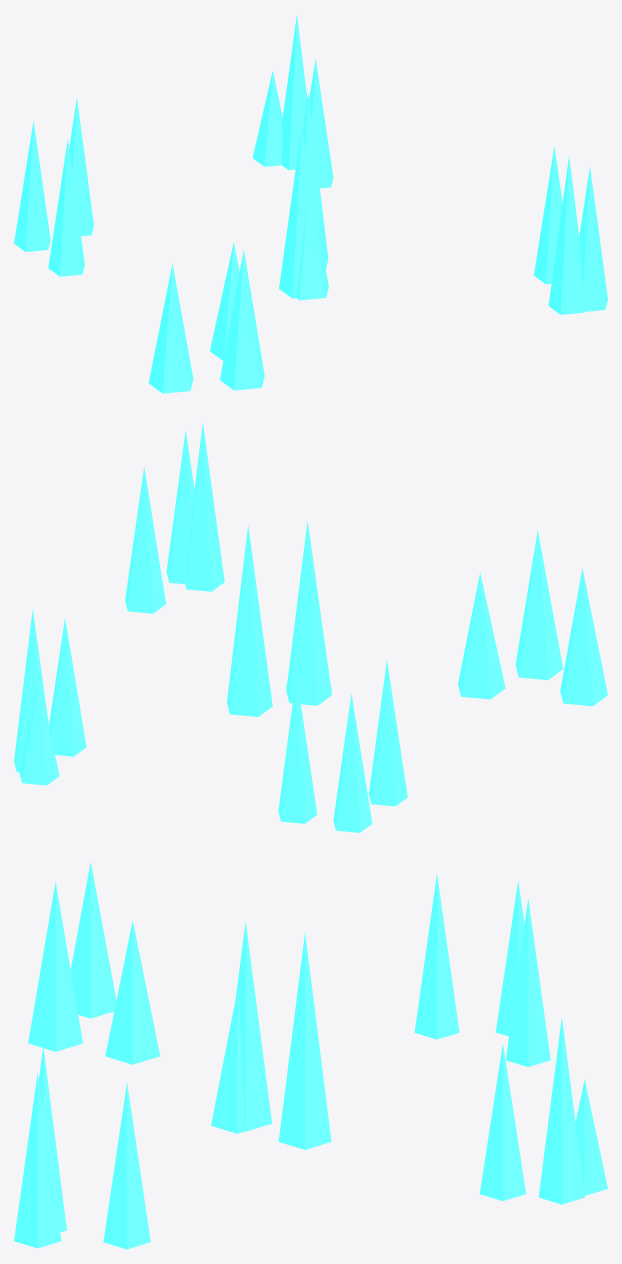
The model's file is crystal.glb.
3 views of the same model, one above another, from view 1: azimuth 30°, elevation 25°; view 2: azimuth 150°, elevation 25°; view 3: azimuth 270°, elevation 25° (orthographic). The views are drawn at different scales.
Visible parts, largest first — view 1: cluster_3__M_E_Cyan, cluster_4__M_E_Cyan, cluster_0__M_E_Cyan, cluster_2__M_E_Cyan, cluster_1__M_E_Cyan; view 2: cluster_3__M_E_Cyan, cluster_4__M_E_Cyan, cluster_0__M_E_Cyan, cluster_2__M_E_Cyan, cluster_1__M_E_Cyan; view 3: cluster_3__M_E_Cyan, cluster_2__M_E_Cyan, cluster_1__M_E_Cyan, cluster_4__M_E_Cyan, cluster_0__M_E_Cyan.
Boxes of the visible parts, <box> form: cluster_3__M_E_Cyan: <box>148,242,264,393</box>; cluster_4__M_E_Cyan: <box>534,146,607,314</box>; cluster_0__M_E_Cyan: <box>14,98,93,276</box>; cluster_2__M_E_Cyan: <box>279,93,328,300</box>; cluster_1__M_E_Cyan: <box>252,15,333,188</box>; cluster_3__M_E_Cyan: <box>458,530,607,706</box>; cluster_4__M_E_Cyan: <box>125,422,224,613</box>; cluster_0__M_E_Cyan: <box>278,661,407,832</box>; cluster_2__M_E_Cyan: <box>227,521,331,716</box>; cluster_1__M_E_Cyan: <box>14,609,86,785</box>; cluster_3__M_E_Cyan: <box>28,862,159,1064</box>; cluster_2__M_E_Cyan: <box>211,922,331,1149</box>; cluster_1__M_E_Cyan: <box>479,1017,607,1204</box>; cluster_4__M_E_Cyan: <box>14,1046,150,1249</box>; cluster_0__M_E_Cyan: <box>414,874,550,1066</box>.
Bounding box in the file's own units: 0.8152 × 0.3099 × 0.809.
